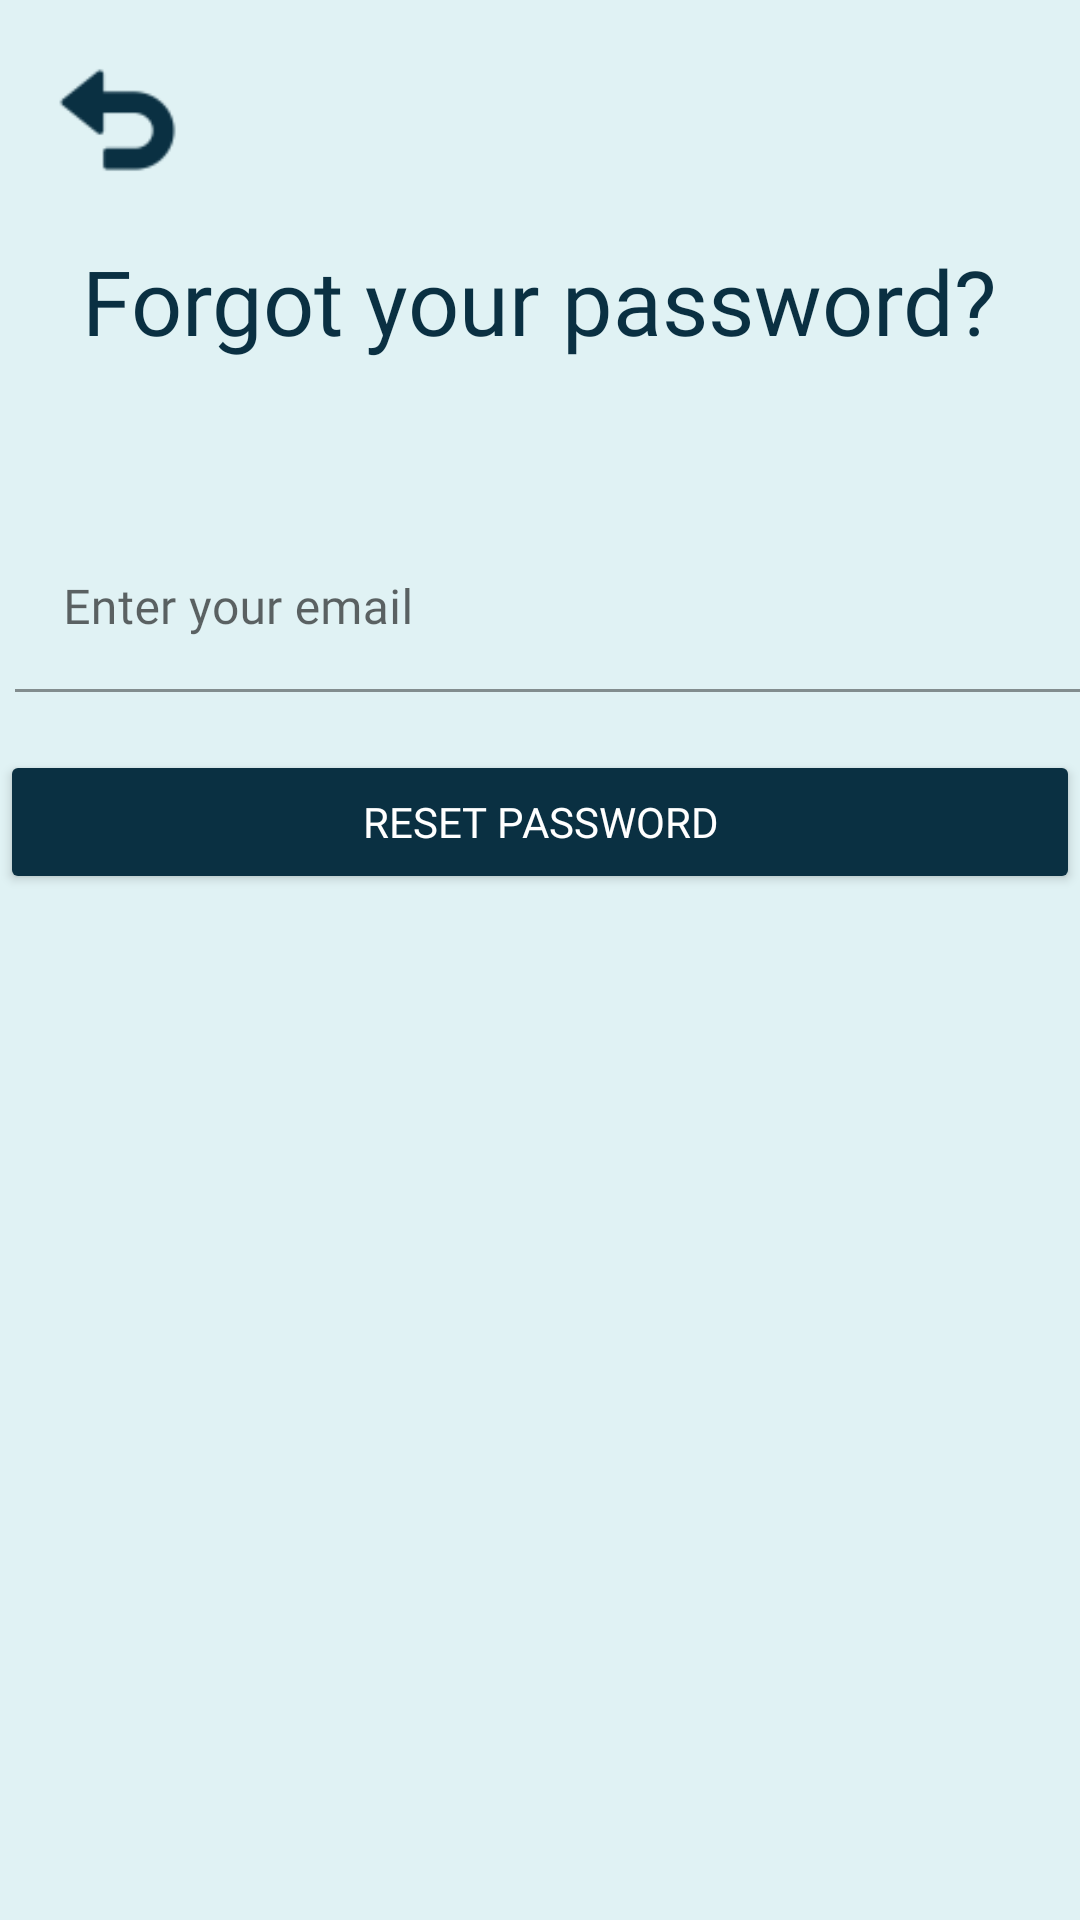

Named icons in this screenshot (1080×1920) and their centers, (x=x, y=y):
undo: (x=118, y=120)
